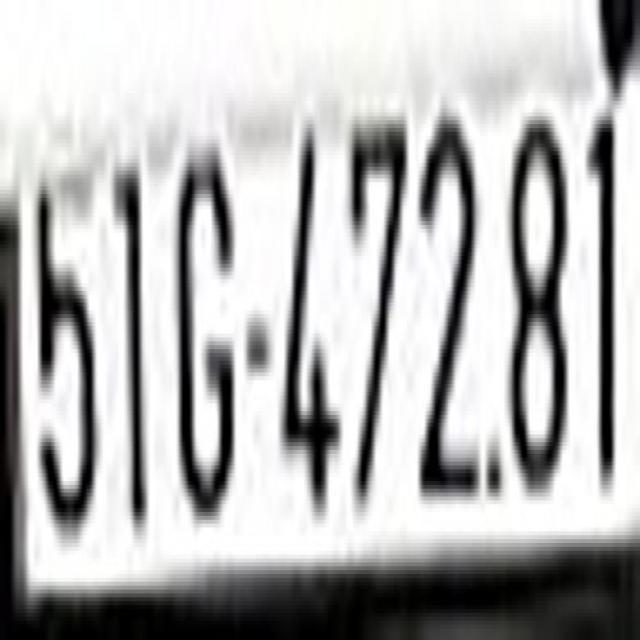1: (584, 85, 630, 512), (111, 148, 147, 540)
2: (417, 78, 481, 508)
4: (277, 108, 343, 540)
5: (36, 156, 99, 532)
7: (349, 93, 408, 516)
8: (509, 93, 572, 504)
G: (176, 143, 240, 554)
